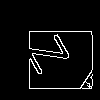Z: (24, 27, 79, 76)
